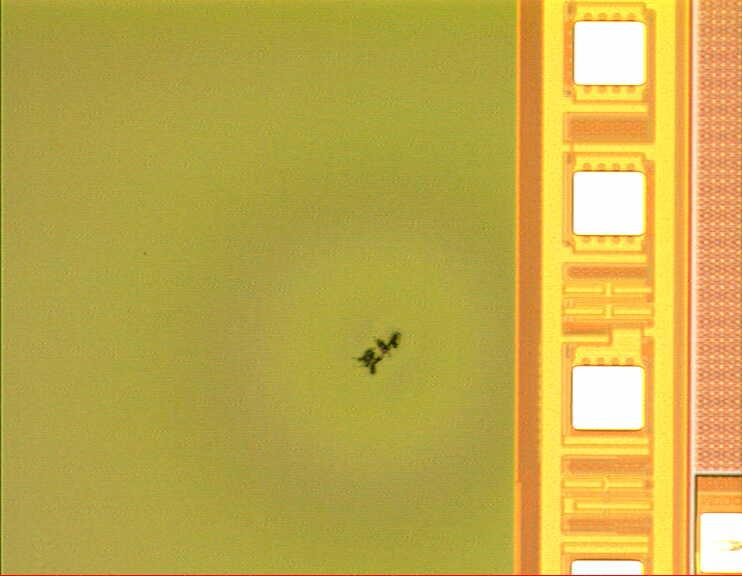PIQ PARTICLE: (351, 328, 406, 381)
